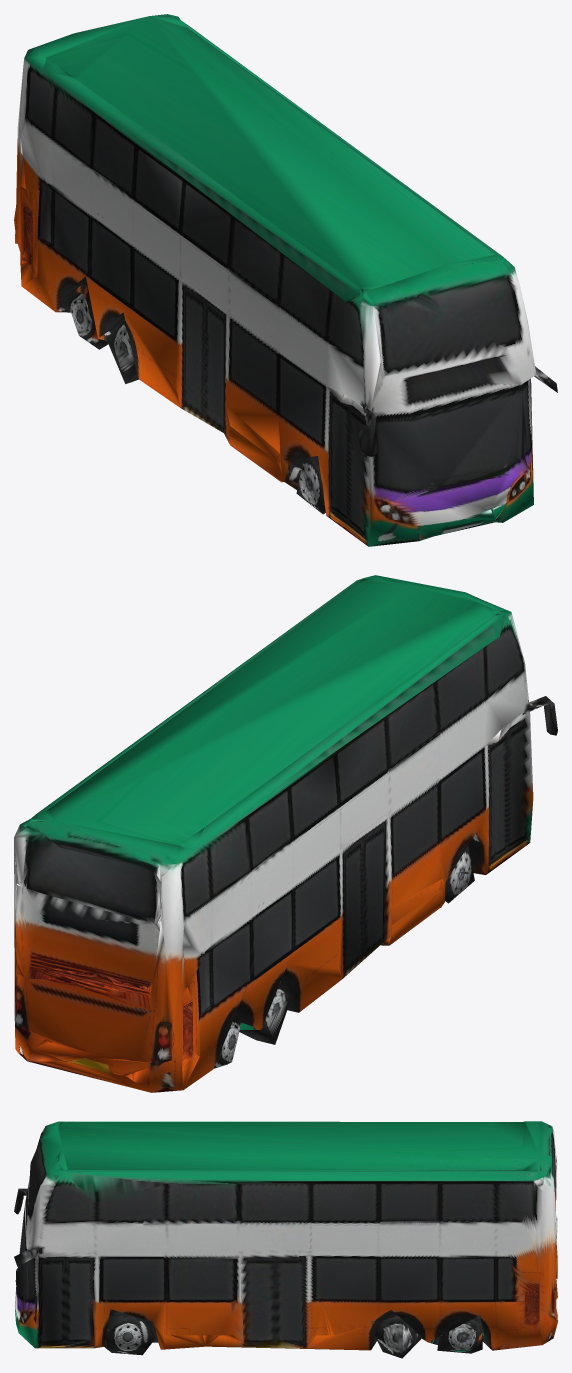
Rendered from v03-double-decker-lod-2500.glb.
3 views of the same model, one above another, from view 1: azimuth 30°, elevation 25°; view 2: azimuth 150°, elevation 25°; view 3: azimuth 270°, elevation 25° (orthographic). The views are drawn at different scales.
Parts seen in each view (by area): view 1: tripo_node_c60ce2cb-e518-4642-939e-4e2c580296fe; view 2: tripo_node_c60ce2cb-e518-4642-939e-4e2c580296fe; view 3: tripo_node_c60ce2cb-e518-4642-939e-4e2c580296fe.
Boxes of the visible parts, x1,y1,x2,y2 form: tripo_node_c60ce2cb-e518-4642-939e-4e2c580296fe: (14,14,557,546); tripo_node_c60ce2cb-e518-4642-939e-4e2c580296fe: (14,575,557,1092); tripo_node_c60ce2cb-e518-4642-939e-4e2c580296fe: (14,1121,557,1358).
Size of the model in its own units: 0.295 by 0.3851 by 0.9784.
Materials: 1 (1 with a texture image).
